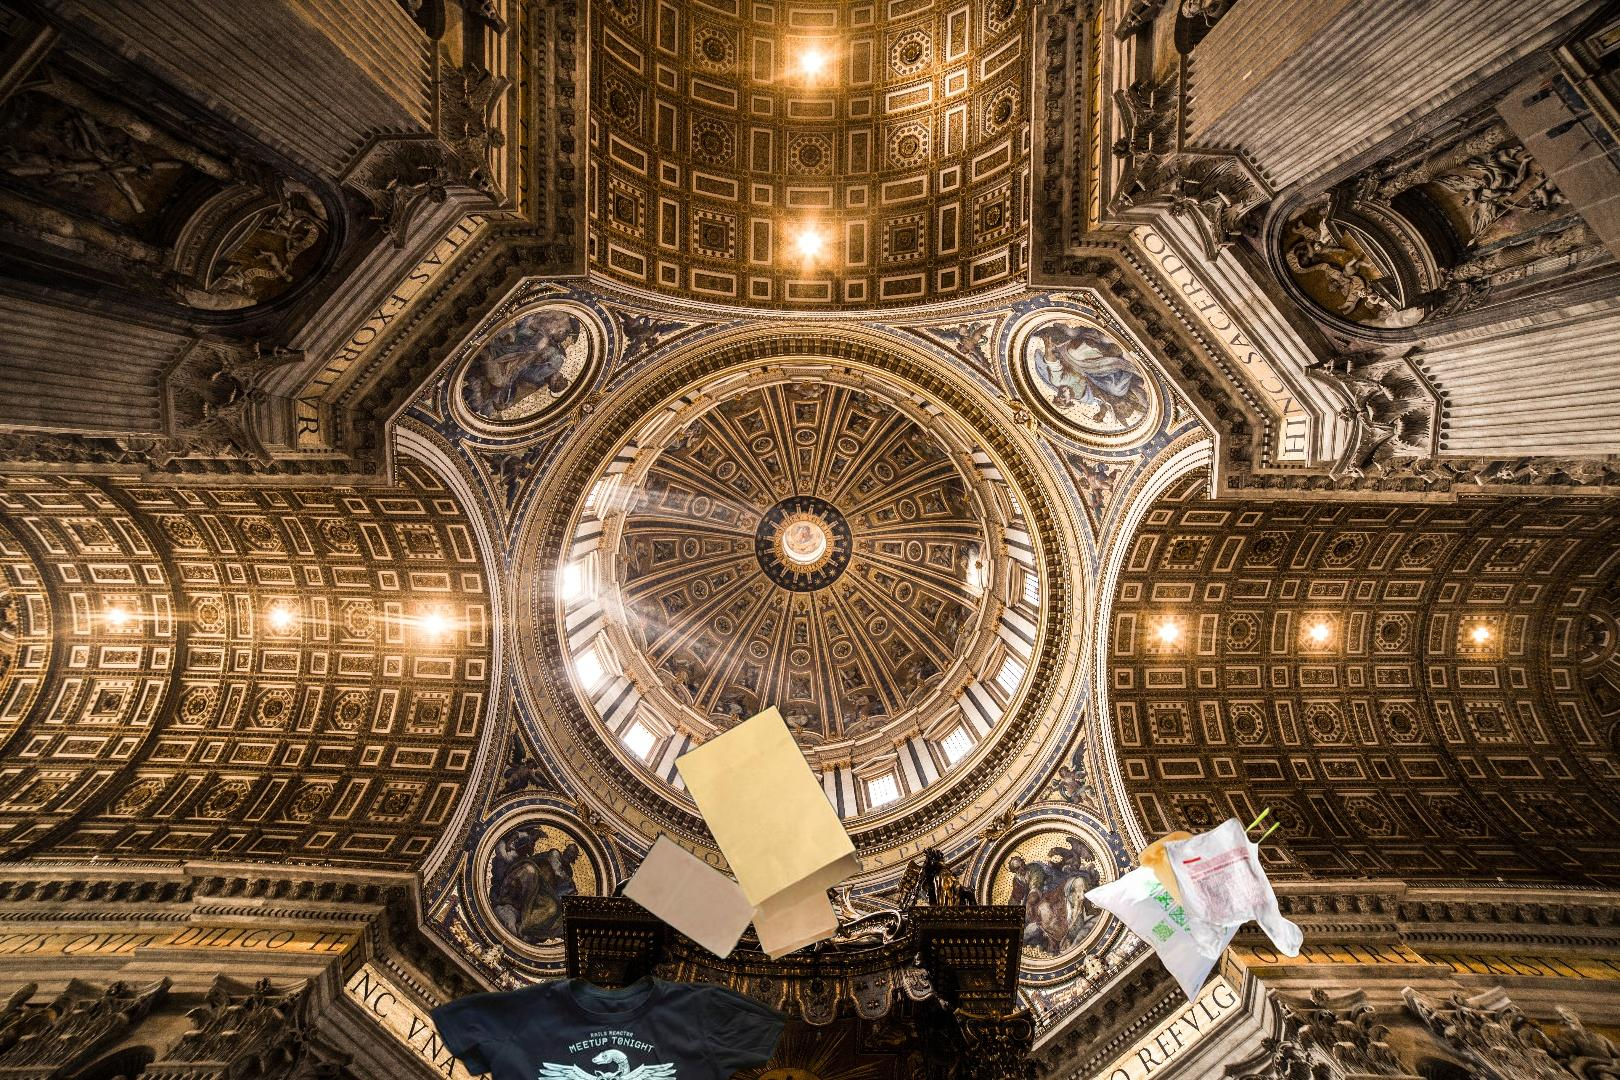clothes: (424, 972, 796, 1080)
paper-bag: (588, 689, 867, 964)
plastic-bag: (1082, 805, 1307, 1006)
